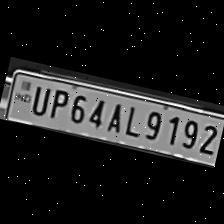1: (159, 109, 183, 146)
2: (193, 117, 221, 155)
4: (83, 92, 109, 128)
6: (64, 87, 91, 125)
9: (138, 103, 166, 141), (176, 113, 202, 150)
A: (101, 96, 128, 134)
L: (120, 99, 144, 138)
P: (44, 82, 72, 120)
U: (25, 80, 51, 116)
